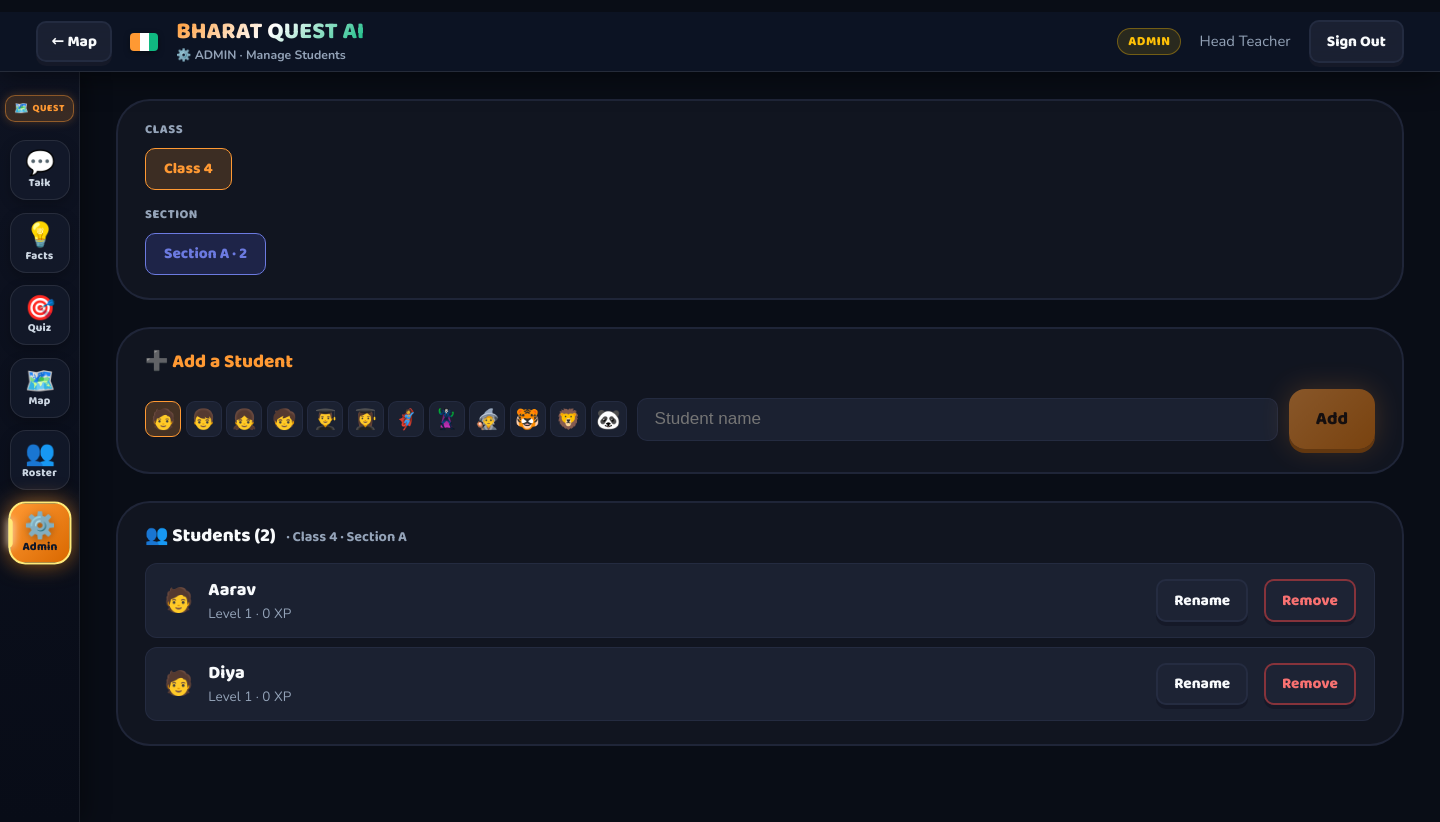
Scenario: AdminPage — draft staging › rejects a duplicate name with an error toast
The image size is (1440, 822).
Expected: the text "Aarav" is shown, left=208, top=576, right=256, bottom=604
Step 1. Type "aarav" into the field with placeholder "Student name" → (958, 419), box left=637, top=398, right=1278, bottom=441
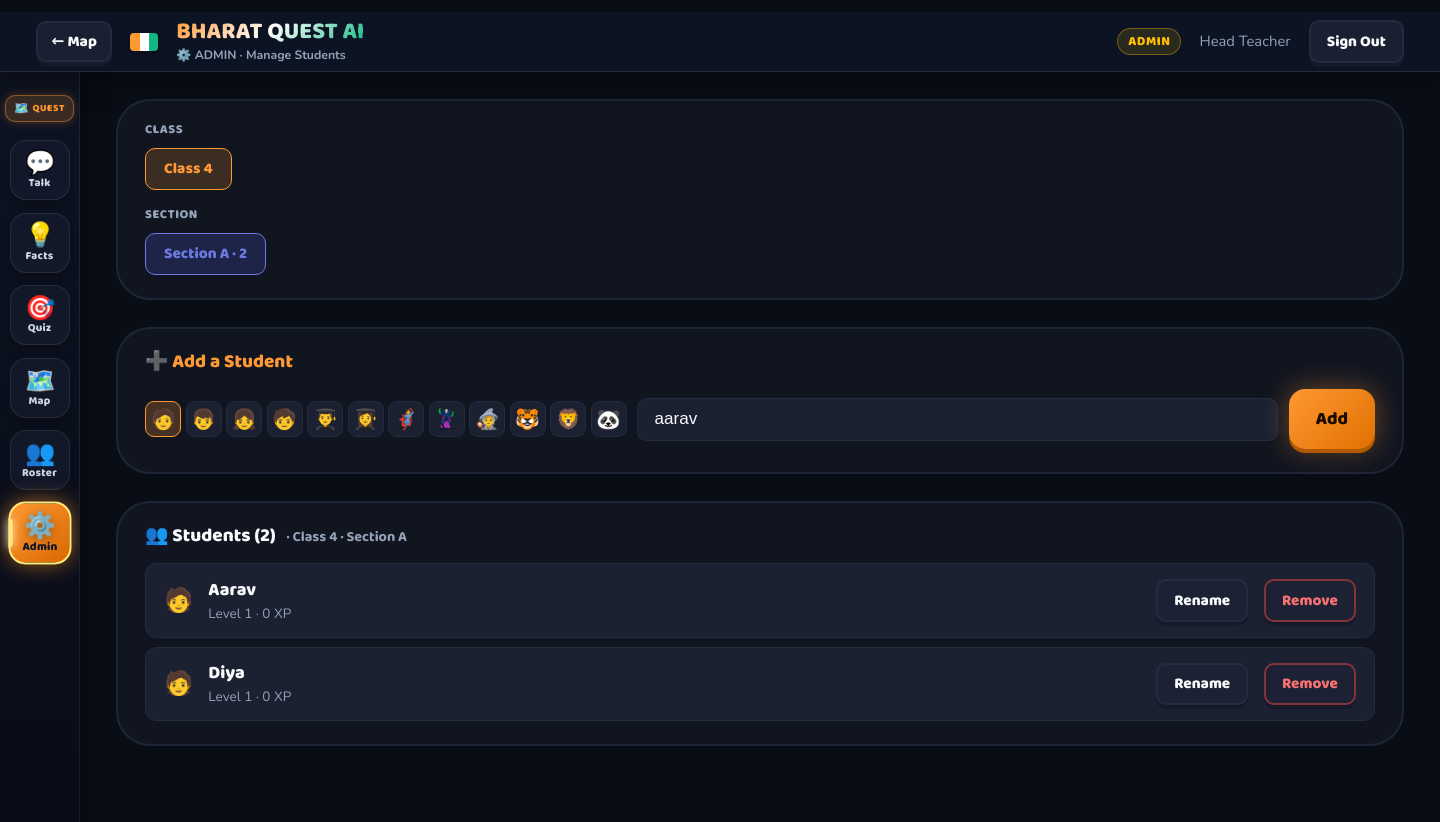
Step 2. Click the button "Add" → (1332, 419), box left=1289, top=389, right=1375, bottom=449
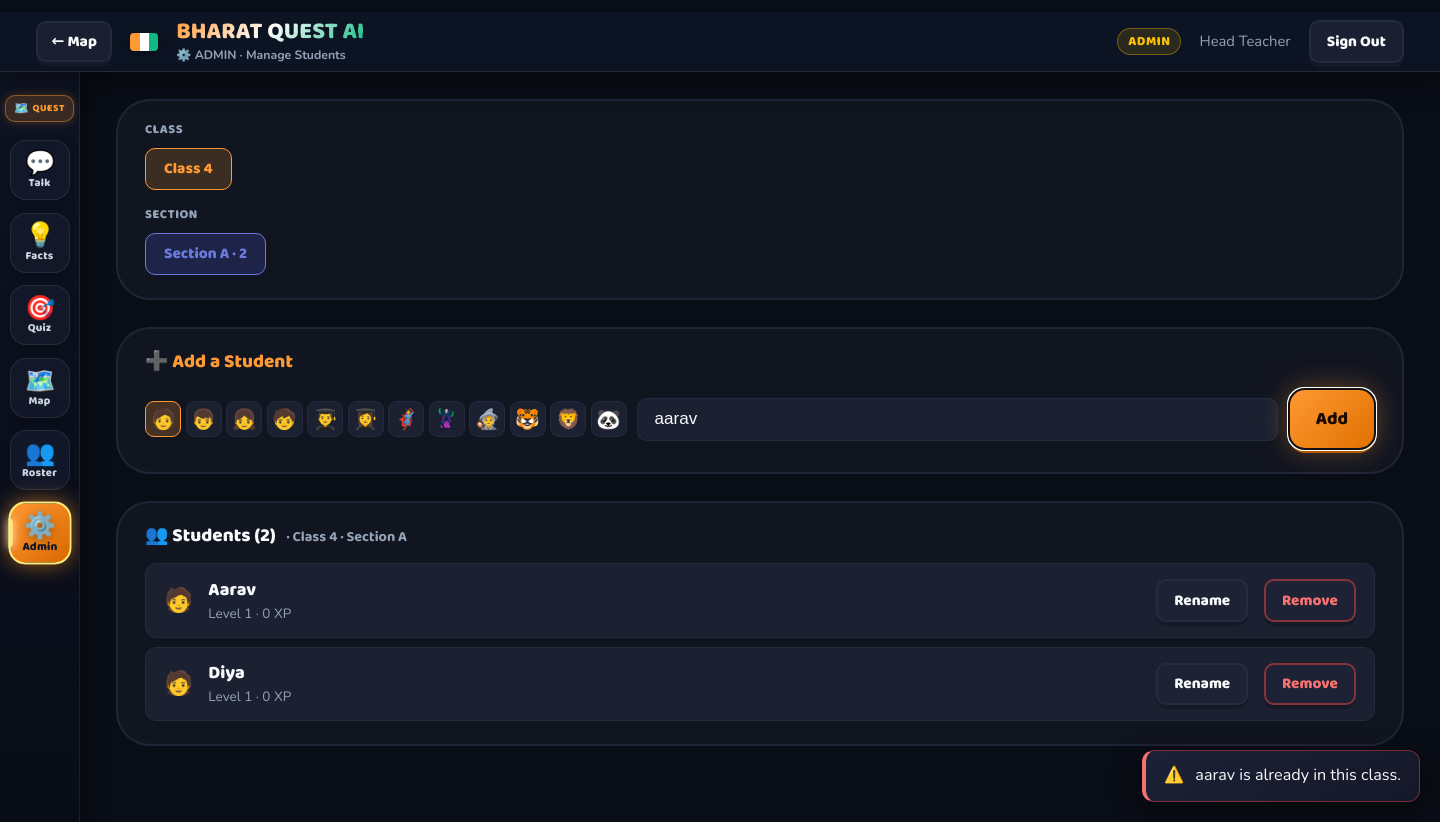
Expected: the message shows "already in this class", left=1195, top=764, right=1401, bottom=786
